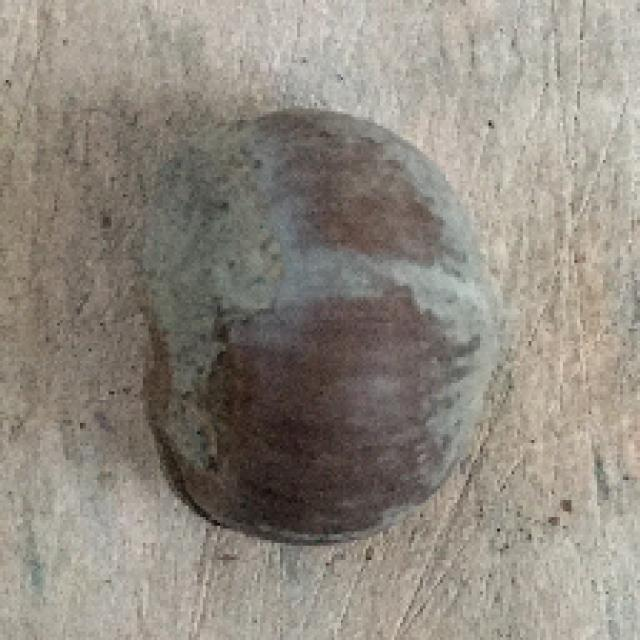damagedHazelnut: (140, 100, 500, 556)
